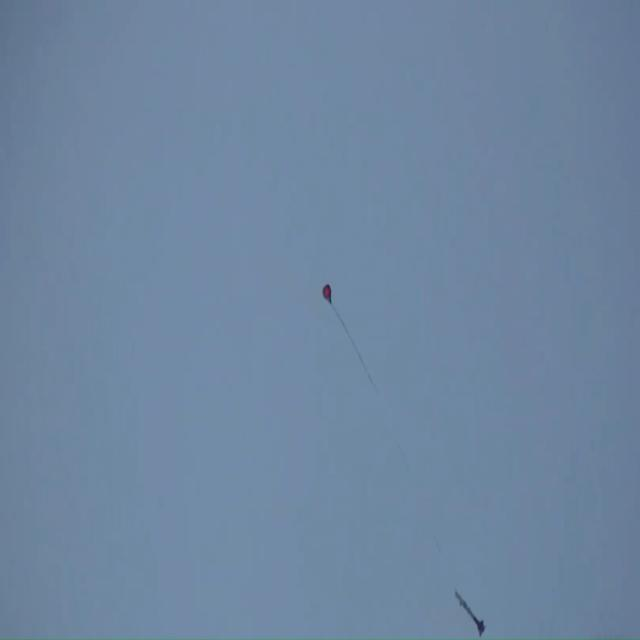Rocket: (455, 590, 486, 638)
